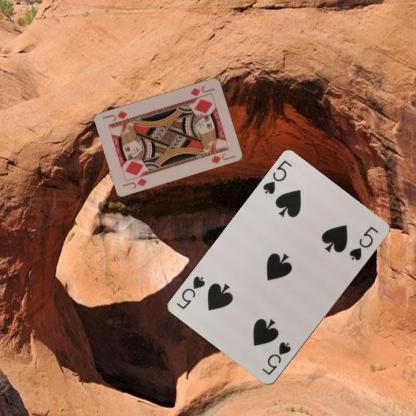5s: (260, 158, 294, 196), (260, 339, 292, 377)
Jd: (120, 175, 148, 190), (188, 83, 216, 97)
